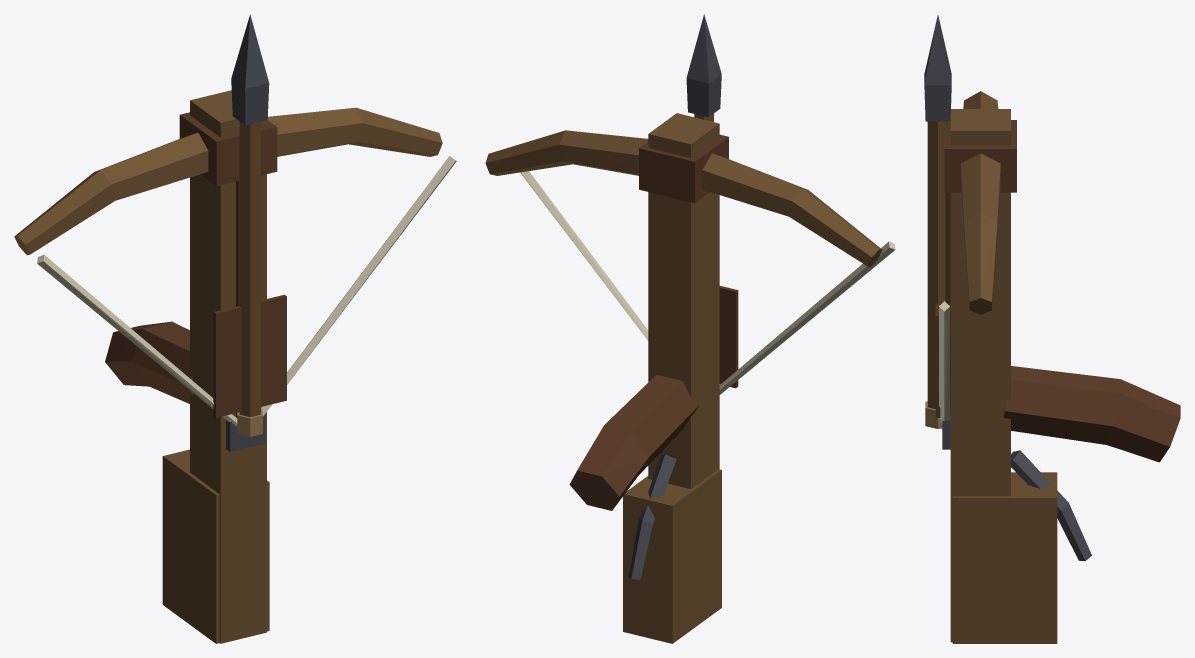
Rendered from weapon_crossbow_light.glb.
3 views of the same model, side by side, from view 1: azimuth 30°, elevation 25°; view 2: azimuth 150°, elevation 25°; view 3: azimuth 270°, elevation 25° (orthographic). The views are drawn at different scales.
Visible parts, largest first — view 1: weapon_crossbow_light, weapon_crossbow_light_bolt, weapon_crossbow_light_string; view 2: weapon_crossbow_light, weapon_crossbow_light_bolt, weapon_crossbow_light_string; view 3: weapon_crossbow_light, weapon_crossbow_light_bolt, weapon_crossbow_light_string.
Part boxes in pixels (left/top/right/bottom): weapon_crossbow_light: left=14, top=90, right=442, bottom=643; weapon_crossbow_light_bolt: left=213, top=14, right=286, bottom=436; weapon_crossbow_light_string: left=37, top=156, right=456, bottom=426; weapon_crossbow_light: left=485, top=113, right=882, bottom=643; weapon_crossbow_light_bolt: left=686, top=14, right=738, bottom=388; weapon_crossbow_light_string: left=520, top=171, right=895, bottom=394; weapon_crossbow_light: left=942, top=91, right=1180, bottom=643; weapon_crossbow_light_bolt: left=924, top=15, right=951, bottom=428; weapon_crossbow_light_string: left=939, top=301, right=949, bottom=429.
Bounding box in the file's own units: 0.5932 × 0.845 × 0.3179.
